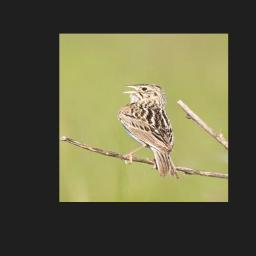Sparrow: (116, 82, 181, 181)
